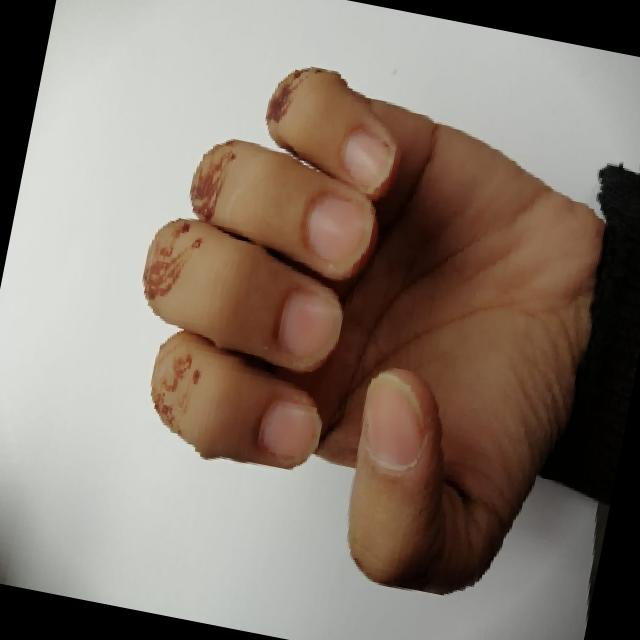Nail: (362, 372, 424, 472), (306, 192, 374, 267), (278, 290, 341, 359), (261, 399, 321, 458), (341, 130, 394, 192)
